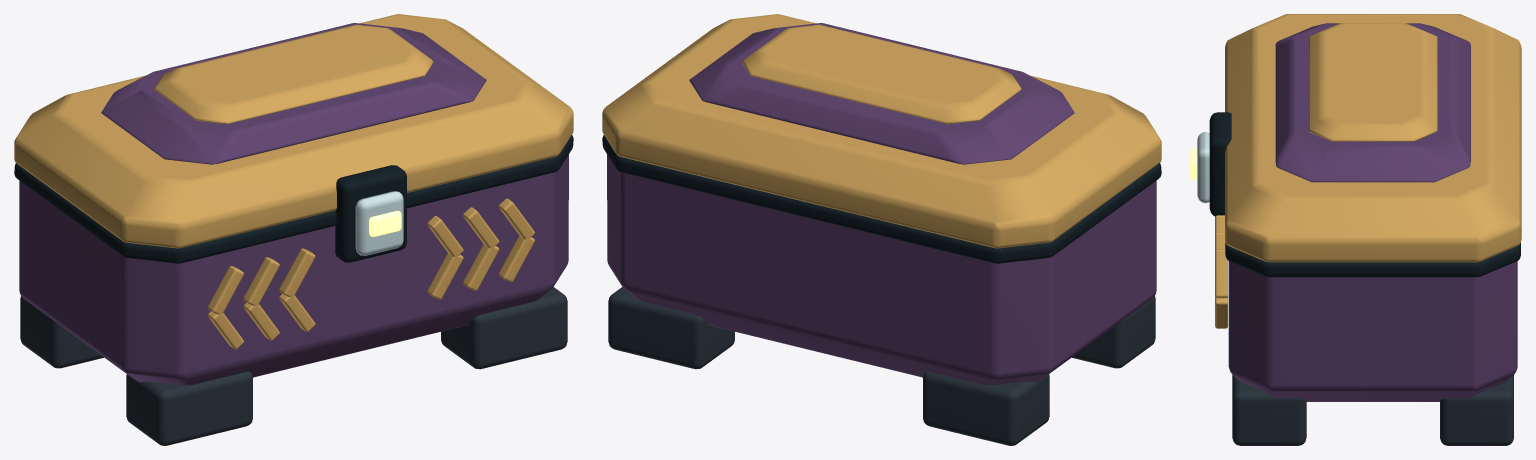
File: salvage_cache.glb
The picture shows the model from 3 angles, left to right: view 1: azimuth 30°, elevation 25°; view 2: azimuth 150°, elevation 25°; view 3: azimuth 270°, elevation 25°; orthographic projection. The views are drawn at different scales.
Parts seen in each view (by area): view 1: Index reliquary; view 2: Index reliquary; view 3: Index reliquary.
Part boxes in pixels (x1,y1,x2,y2): Index reliquary: [14, 14, 573, 445]; Index reliquary: [602, 14, 1161, 445]; Index reliquary: [1190, 14, 1521, 445].
Bounding box in the file's own units: 1.38 × 0.825 × 0.893.
